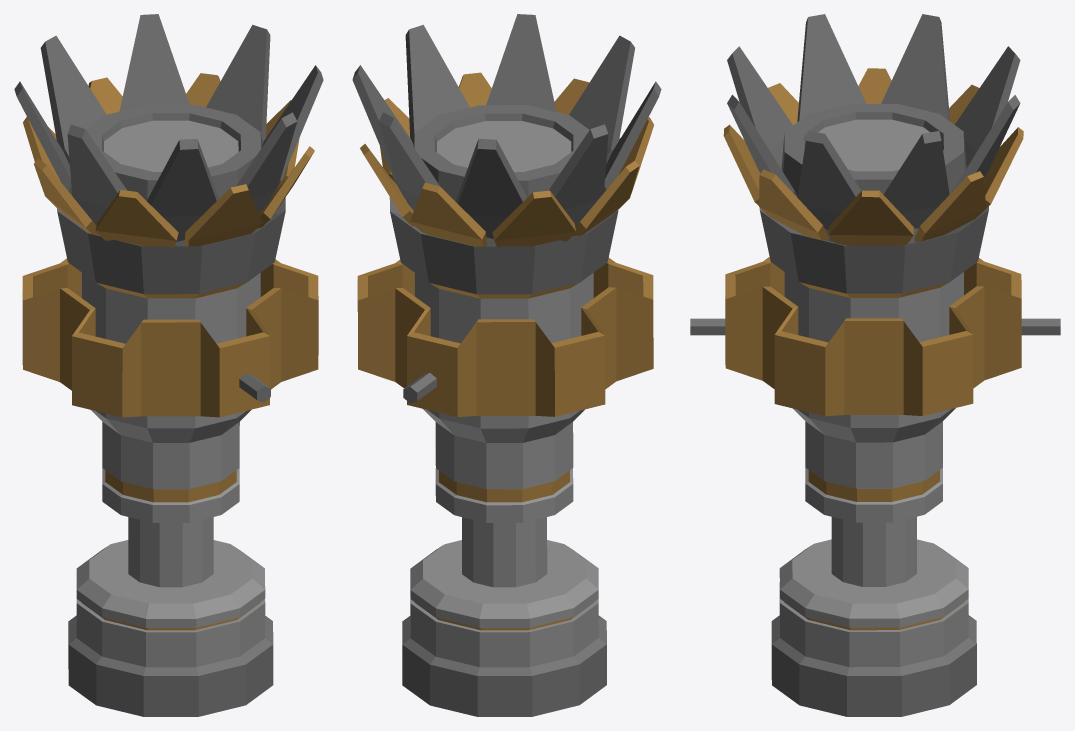
The model's file is statue.glb.
3 views of the same model, side by side, from view 1: azimuth 30°, elevation 25°; view 2: azimuth 150°, elevation 25°; view 3: azimuth 270°, elevation 25° (orthographic).
Parts seen in each view (by area): view 1: Props_Statue; view 2: Props_Statue; view 3: Props_Statue.
Part boxes in pixels (x1,y1,x2,y2): Props_Statue: (14,14,323,716); Props_Statue: (352,14,661,716); Props_Statue: (690,14,1060,716).
Size of the model in its own units: 1.18 by 2.61 by 1.46.
